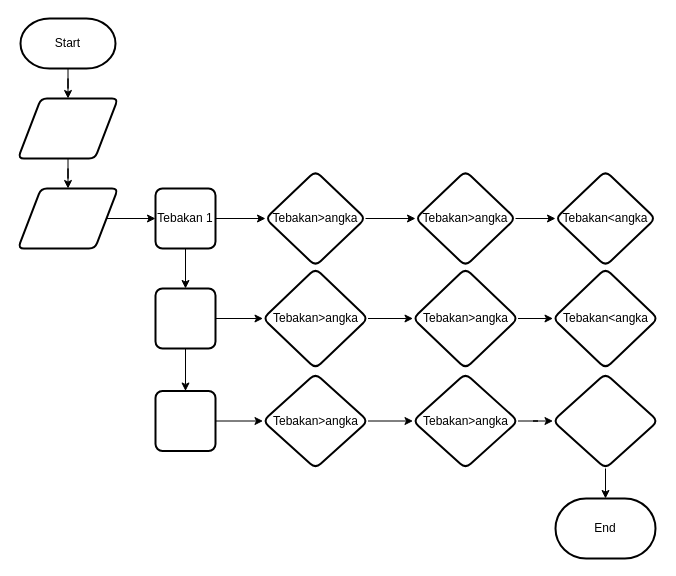
This 676x576 diagram has some shape labels left out. The shapes that lost their labels are listed below. From the top down, each one's centre as x and y in pixels, then its label:
At [67,128]: "Tebak Angka".
At [67,218]: "Tebakan".
At [185,318]: "Tebakan 2".
At [185,421]: "Tebakan 3".
At [605,420]: "Tebakan=angka".
